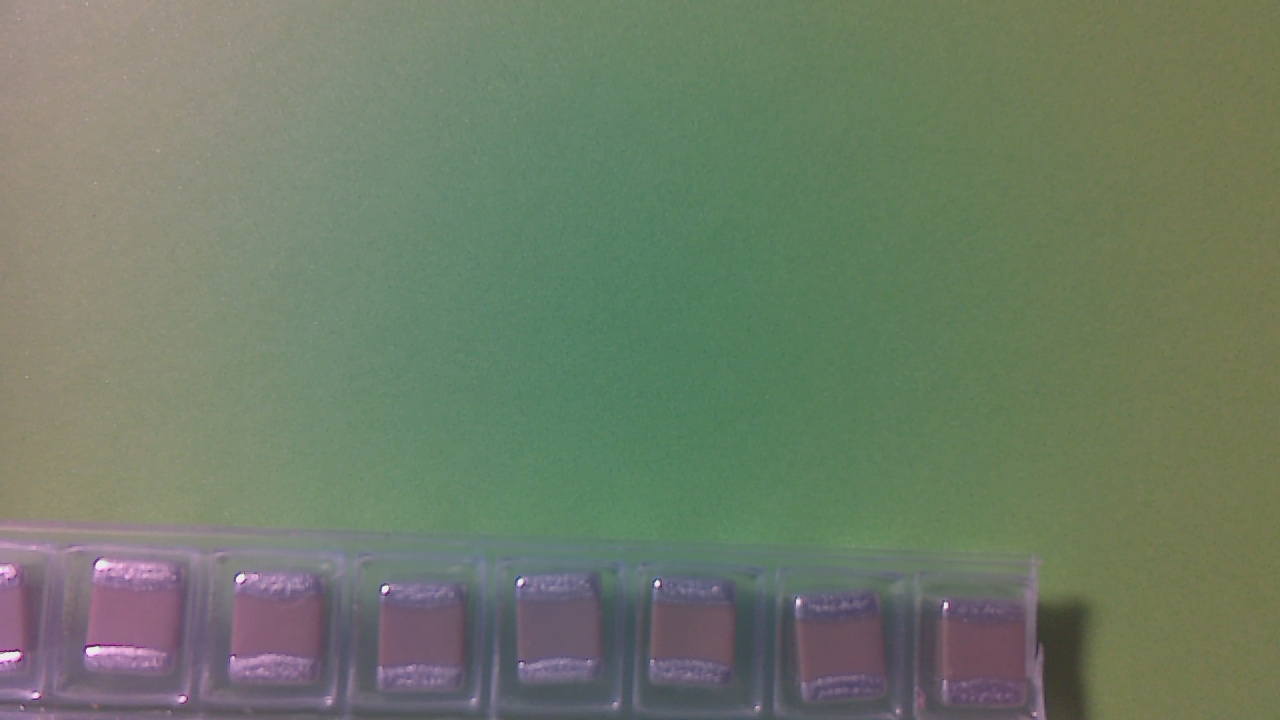Condensator: (85, 563, 194, 684), (233, 572, 331, 683), (520, 574, 610, 688), (382, 585, 474, 695), (803, 601, 890, 709), (655, 584, 742, 692), (947, 603, 1031, 709)
